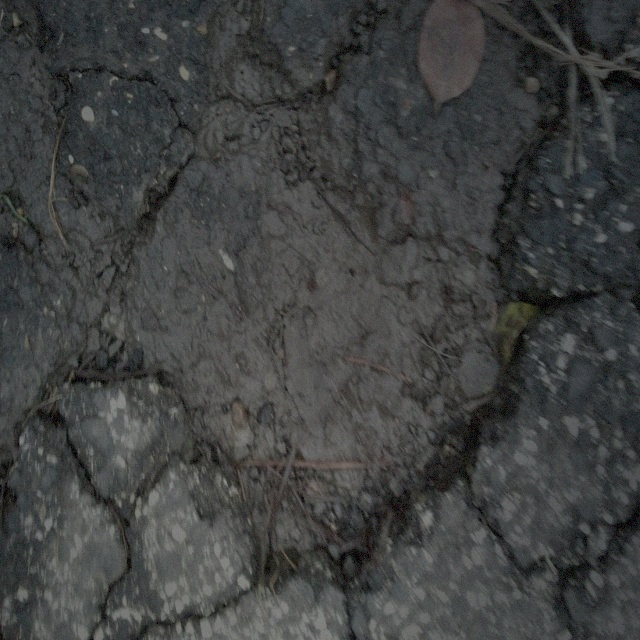pothole: (91, 83, 535, 596)
